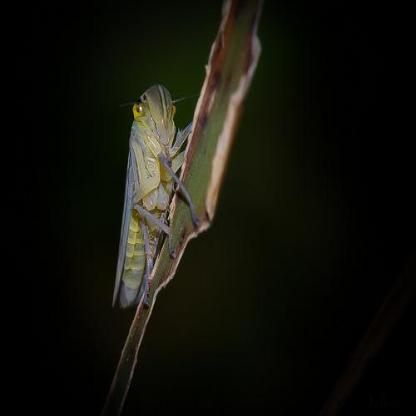Green-Leafhopper: (111, 82, 201, 320)
